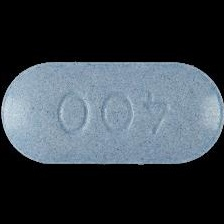55289-462: (0, 0, 224, 224)
